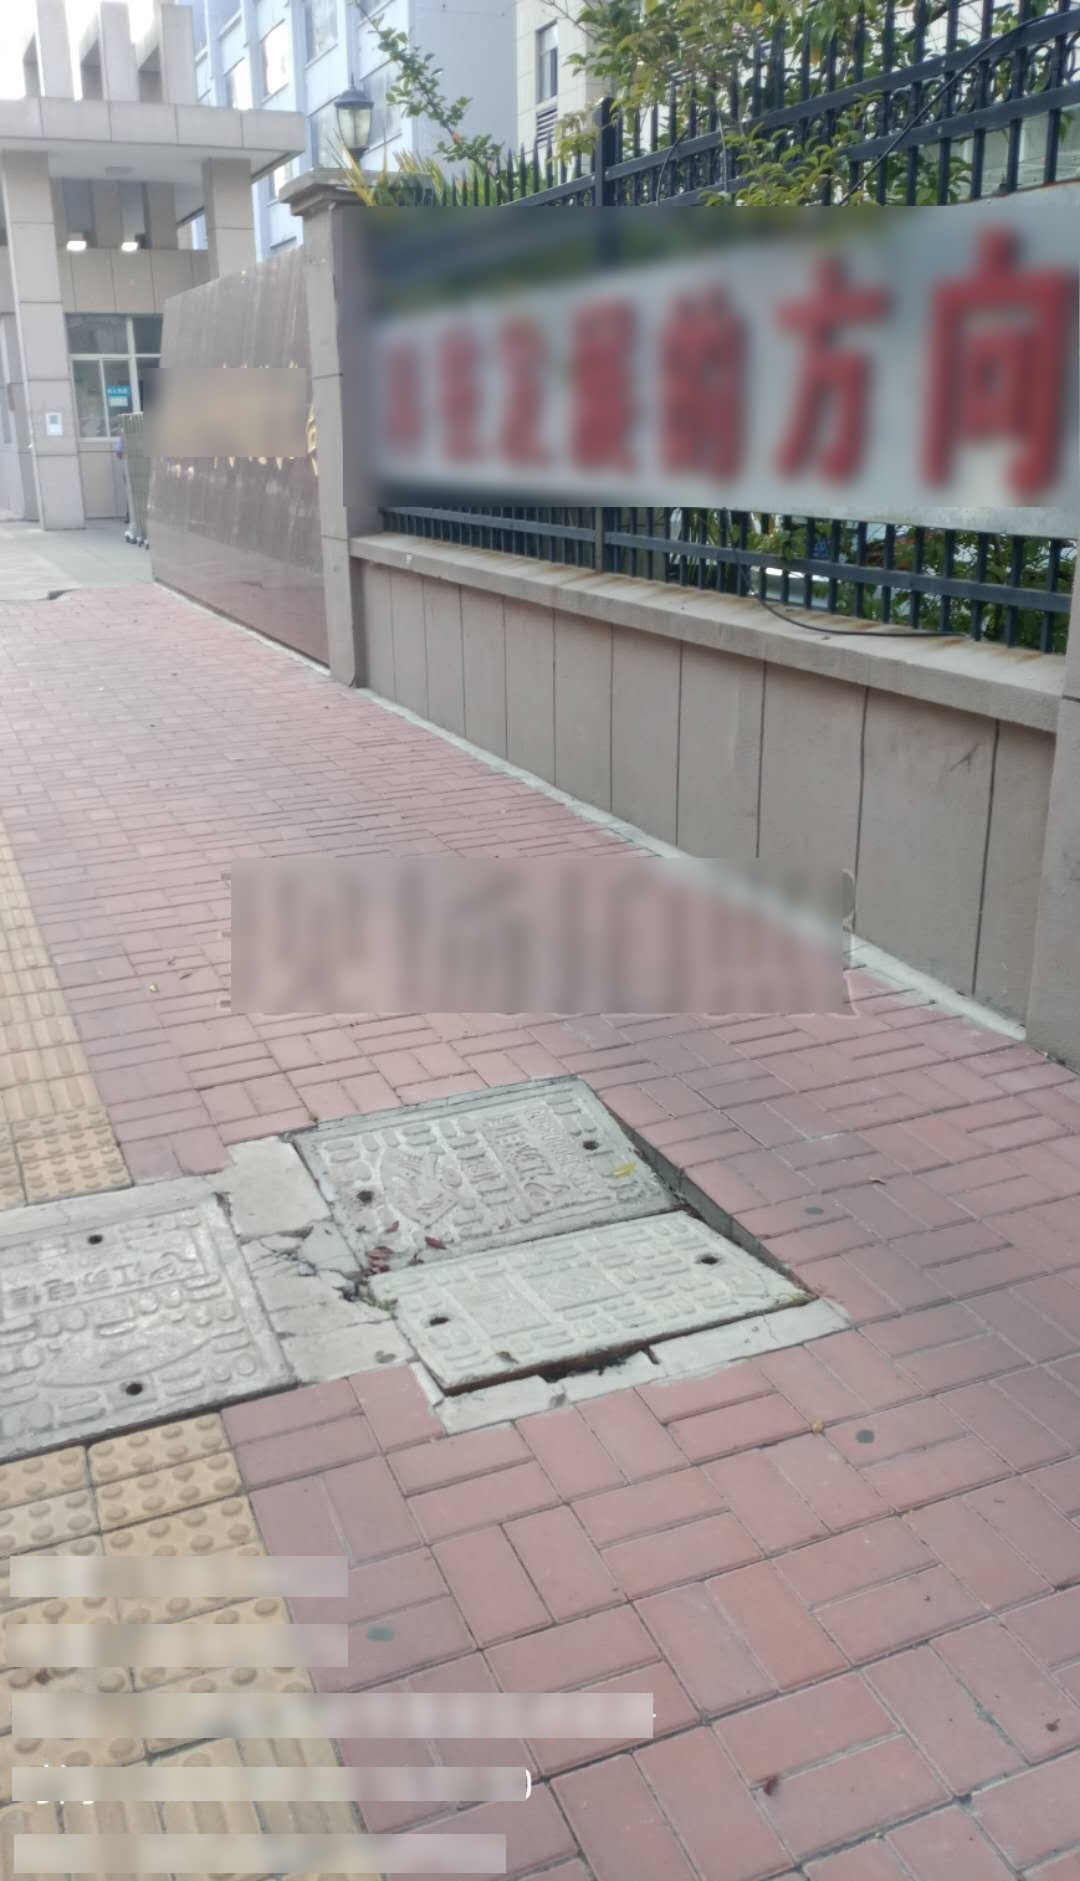well: (338, 1080, 835, 1422)
